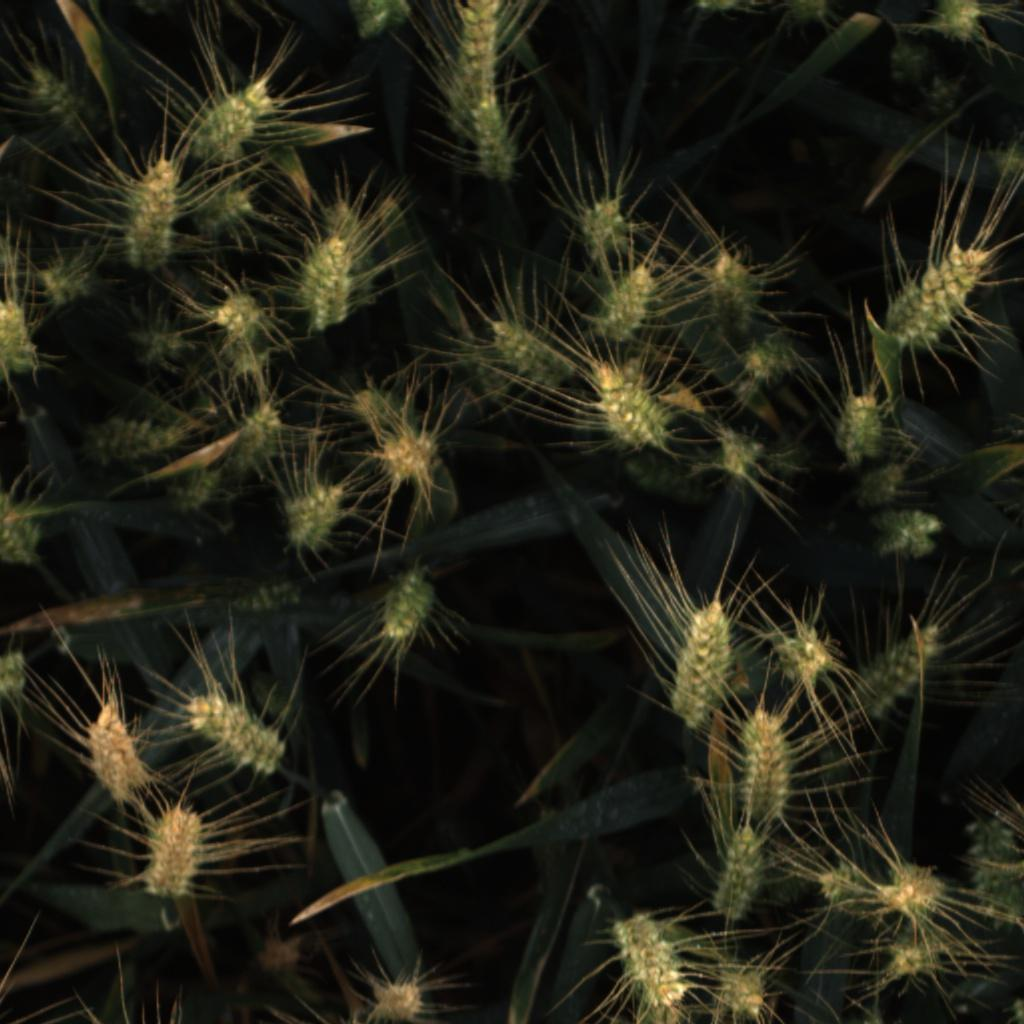0-0: (883, 237, 994, 345), (660, 591, 739, 740), (850, 620, 947, 722), (185, 685, 289, 780), (113, 157, 189, 275), (443, 0, 510, 127), (481, 313, 580, 398), (77, 692, 156, 798), (584, 354, 669, 448), (189, 72, 279, 160), (964, 812, 1024, 935), (17, 61, 104, 144), (736, 703, 794, 827), (608, 907, 682, 1002), (702, 822, 772, 922), (143, 798, 210, 900), (80, 409, 191, 469), (593, 257, 665, 348), (702, 239, 770, 335), (322, 198, 377, 306), (295, 235, 355, 332), (606, 447, 703, 507), (283, 482, 354, 561), (223, 395, 299, 468), (373, 563, 441, 644), (810, 860, 891, 928), (830, 384, 894, 466), (218, 569, 310, 623), (863, 507, 953, 562), (188, 176, 261, 241), (572, 184, 634, 258), (0, 477, 48, 568), (772, 616, 836, 684), (737, 327, 801, 394), (353, 383, 425, 441), (878, 857, 943, 921), (711, 422, 773, 487), (127, 310, 194, 370), (470, 101, 519, 183), (710, 964, 775, 1024), (853, 460, 920, 514), (376, 429, 439, 486), (366, 972, 433, 1024), (0, 301, 42, 381), (213, 286, 268, 344), (171, 465, 227, 521), (883, 935, 947, 982), (347, 0, 414, 43), (39, 261, 92, 312), (929, 0, 990, 42), (0, 643, 39, 703), (919, 72, 965, 117), (254, 938, 301, 976), (989, 141, 1024, 190), (638, 989, 687, 1024), (886, 44, 929, 83), (228, 340, 268, 377), (785, 0, 827, 27), (0, 234, 22, 280), (695, 0, 742, 17), (1009, 997, 1023, 1023)
